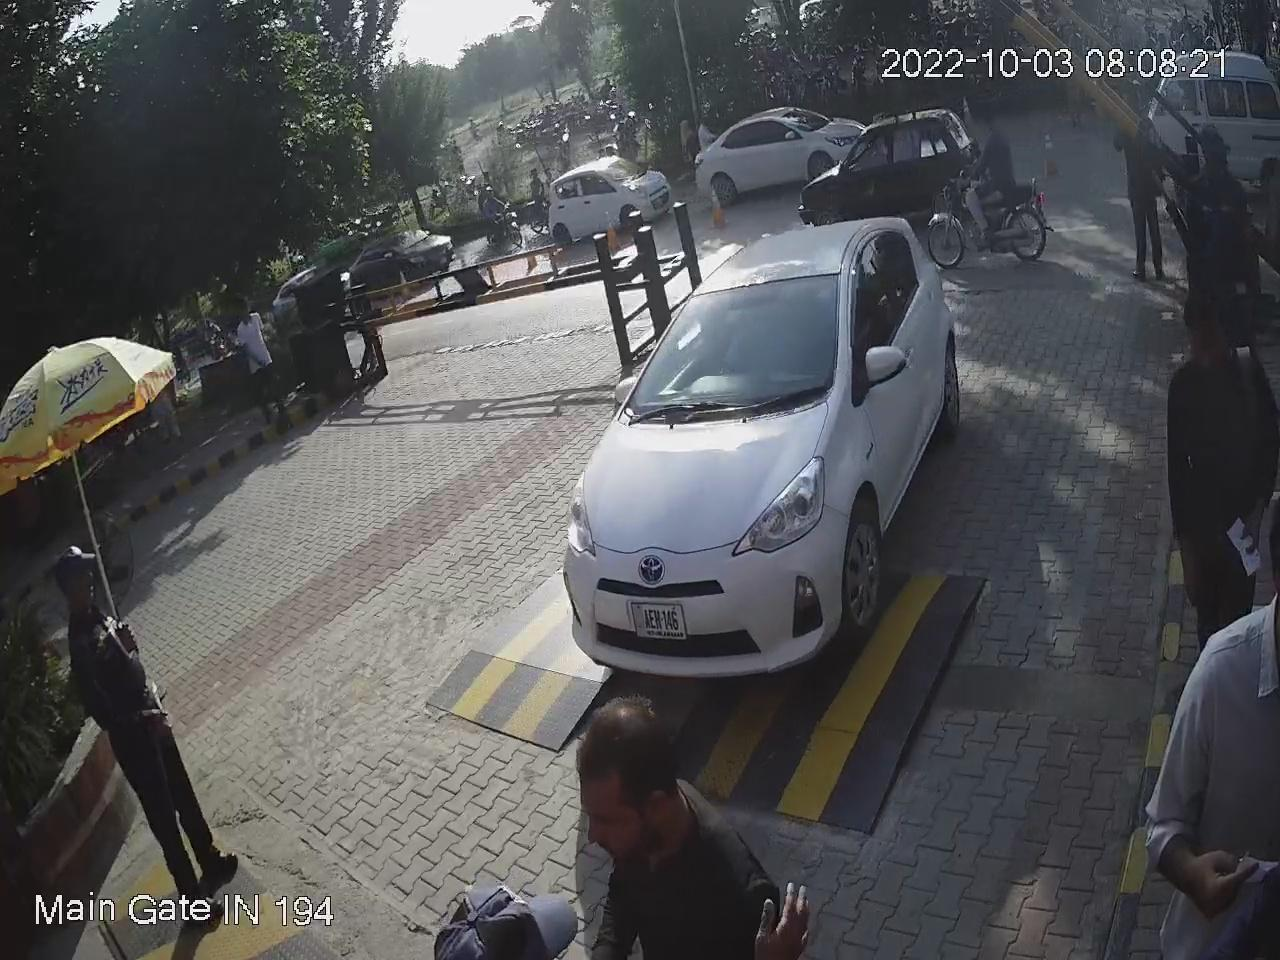windshield: (626, 270, 839, 412)
